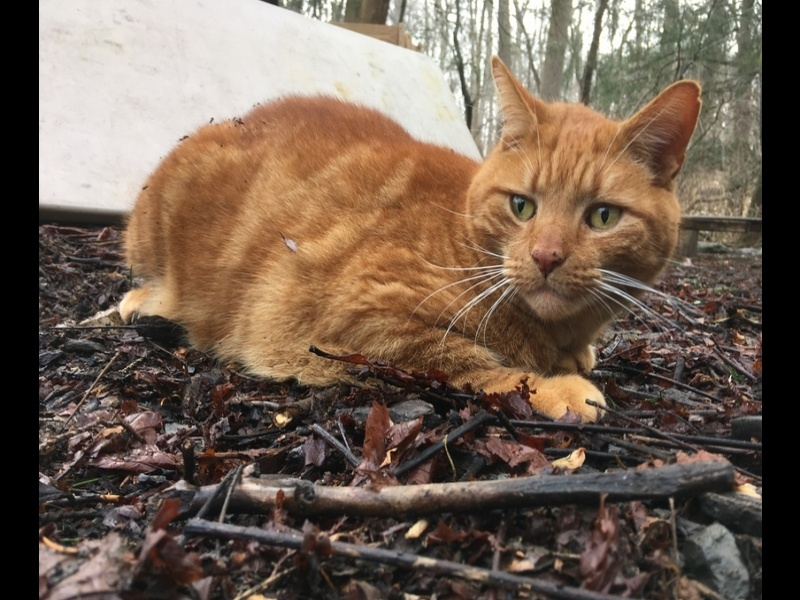cat: (75, 53, 707, 426)
